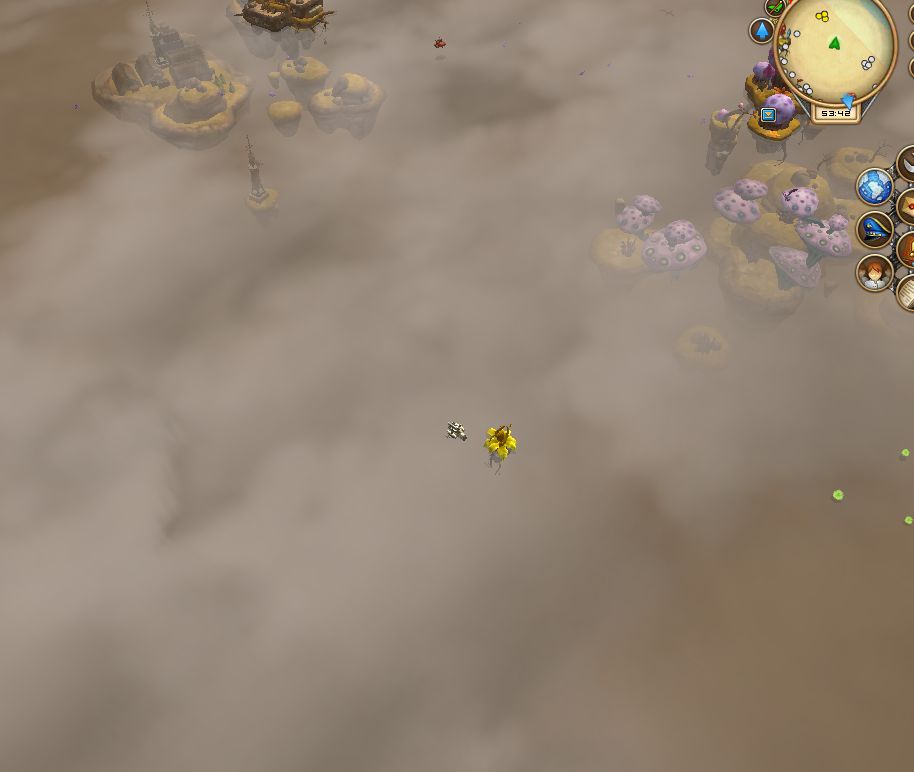dandelion-full: (479, 422, 518, 469)
fluff: (826, 485, 846, 506), (894, 445, 914, 462), (899, 508, 914, 526)
